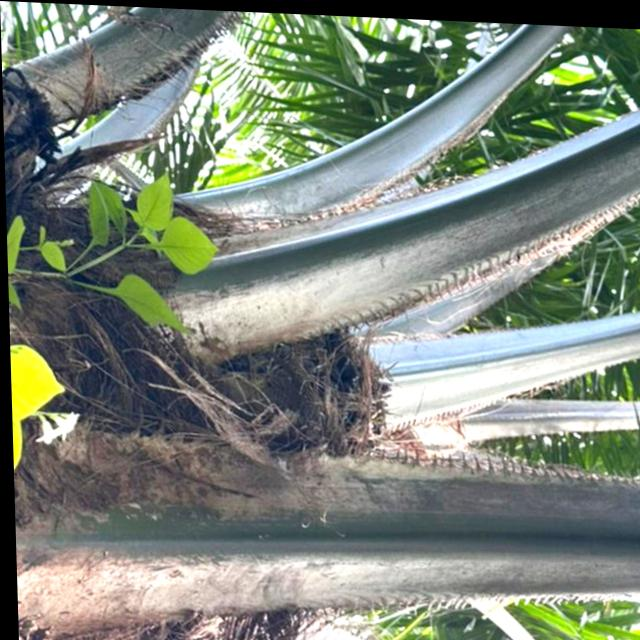unripe: (176, 278, 396, 481)
